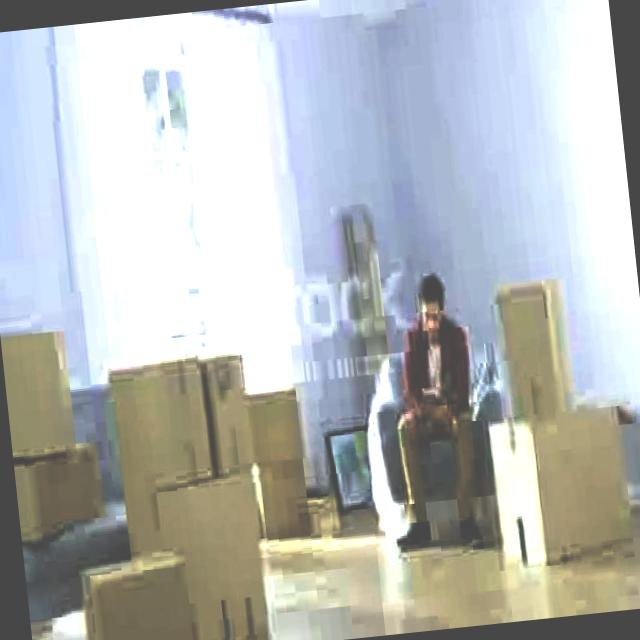Box: (486, 402, 632, 562), (170, 472, 276, 638), (107, 353, 205, 478), (490, 291, 570, 428), (82, 551, 194, 640), (0, 331, 71, 451), (17, 447, 106, 533), (200, 352, 256, 463)
